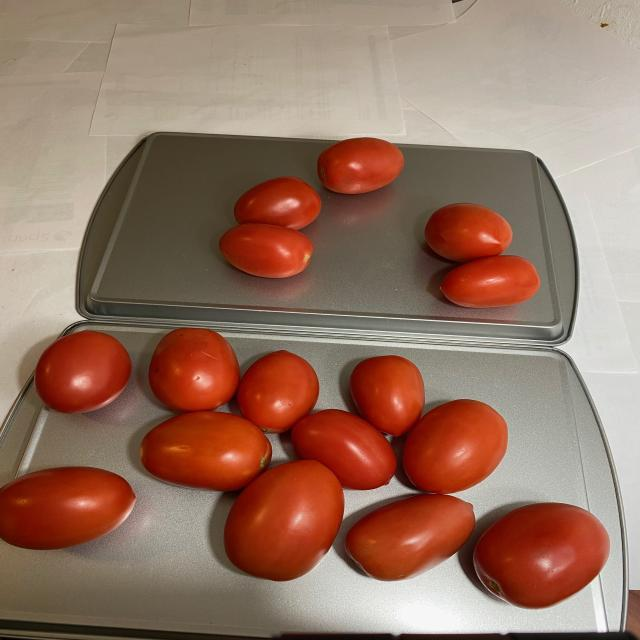tomato: (3, 332, 615, 612), (218, 134, 550, 307)
